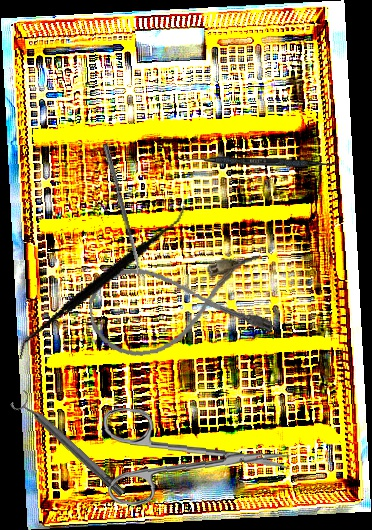Cannula: (84, 249, 275, 363)
Fixation Ring: (9, 388, 130, 504)
Iris Scissors: (98, 407, 294, 513)
Spatula Surgical: (16, 170, 189, 395), (175, 155, 340, 168)
Surgical Spoon: (101, 143, 144, 277)
